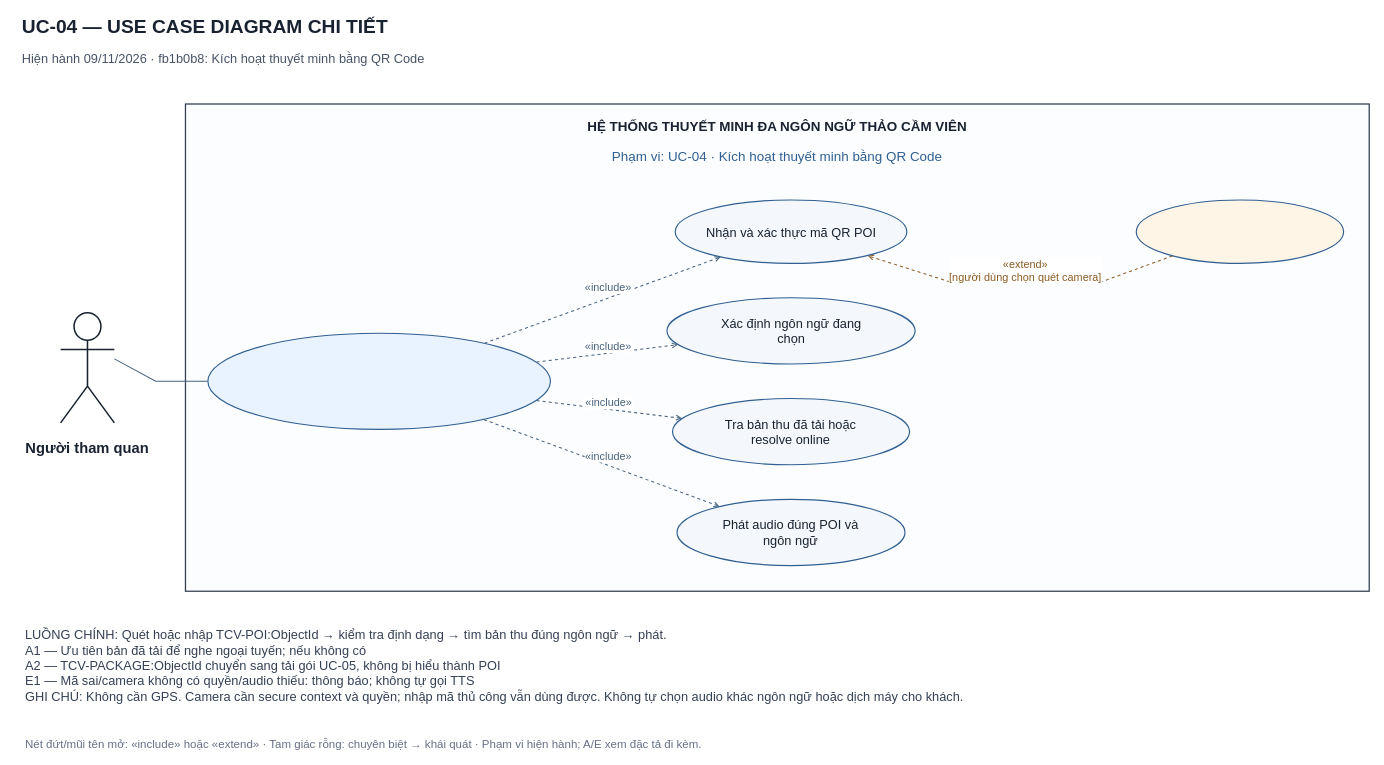
Some shapes in this 1384 by 765 pixel diagram are drawn without their labels. The centre of each missing label's shape, as x and y in pixels:
"Quét mã bằng camera" belongs at point (1239, 231).
"UC-04 Kích hoạt thuyết minh bằng QR Code" belongs at point (379, 381).
